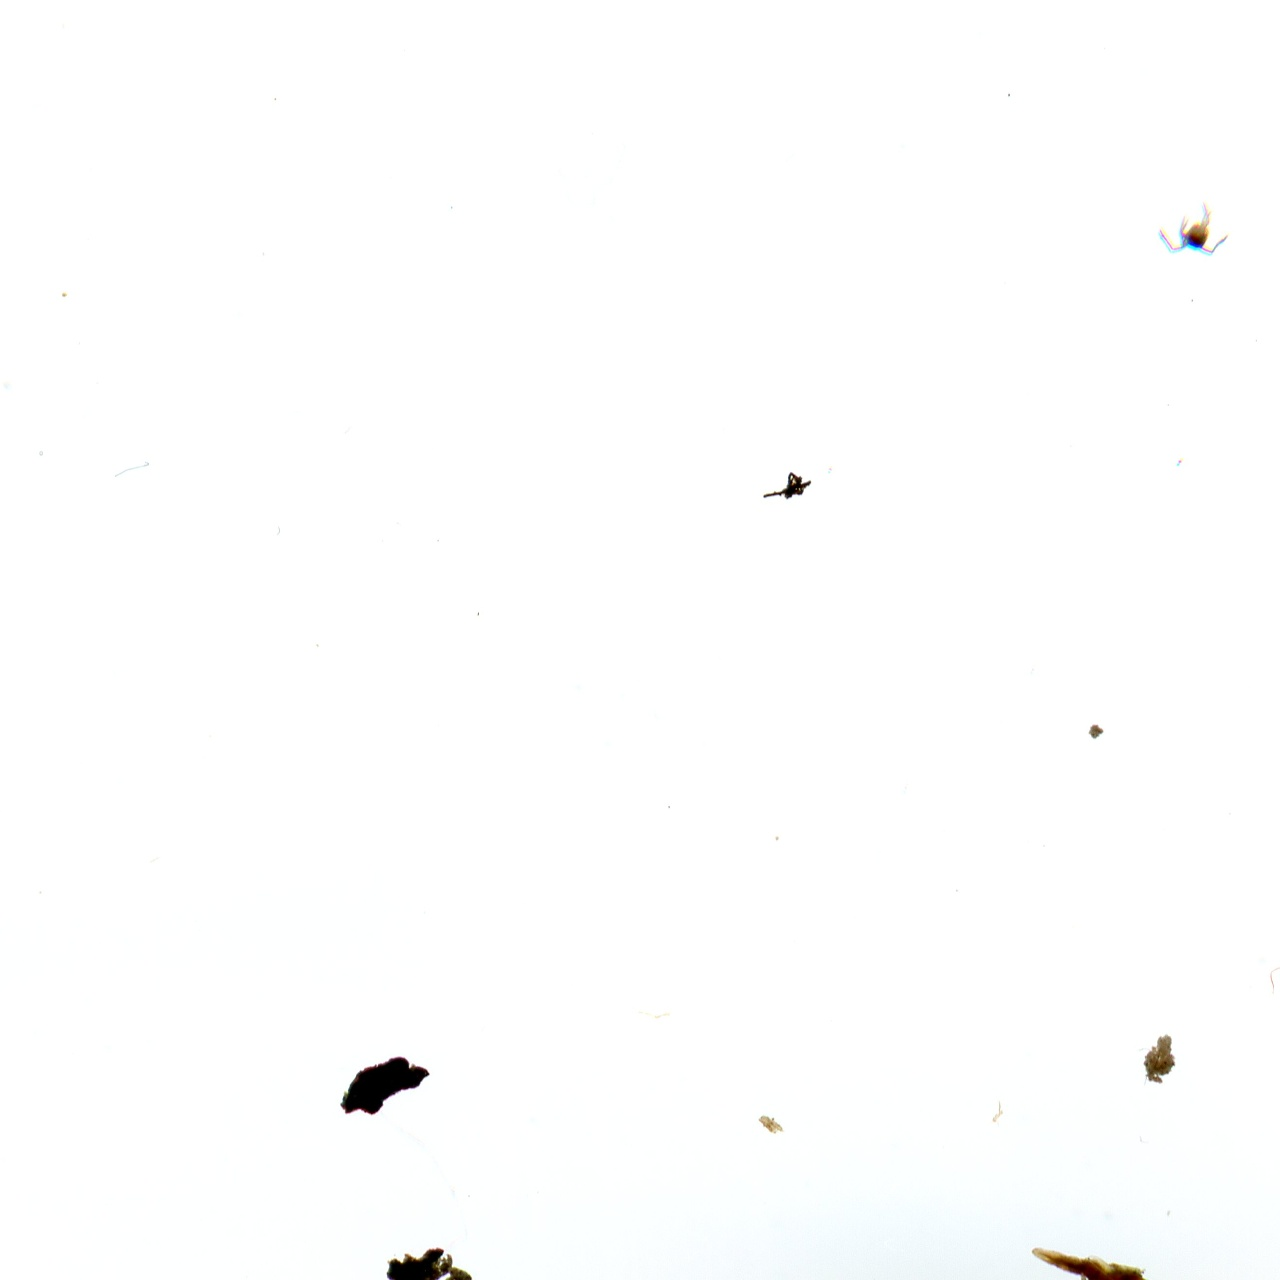arthropod: (1152, 201, 1233, 259)
